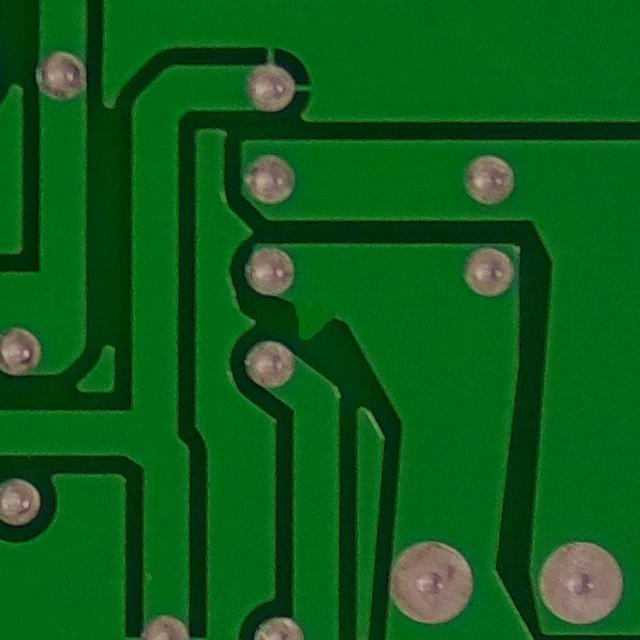spur: (283, 289, 358, 351)
